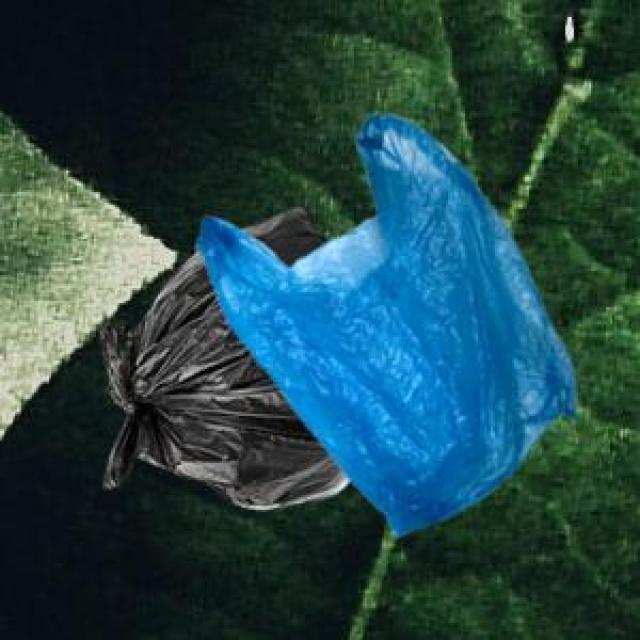miscellaneous trash: (96, 205, 346, 506)
